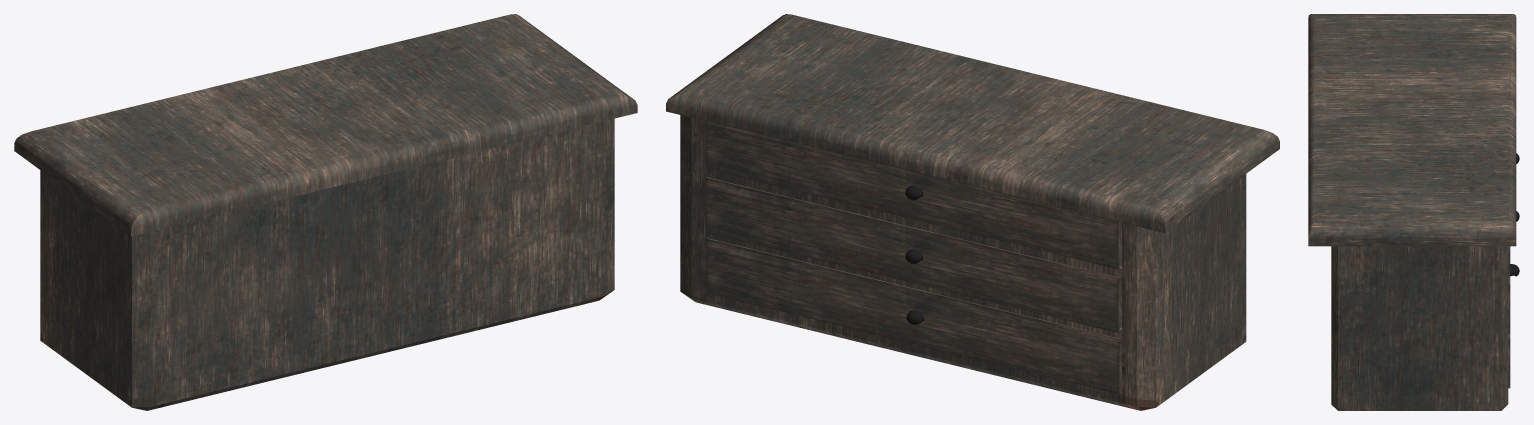
The model's file is Dresser.fbx.
The picture shows the model from 3 angles, left to right: view 1: azimuth 30°, elevation 25°; view 2: azimuth 150°, elevation 25°; view 3: azimuth 270°, elevation 25°; orthographic projection. The views are drawn at different scales.
Parts seen in each view (by area): view 1: polySurface163; view 2: polySurface163, polySurface164, polySurface165, polySurface160; view 3: polySurface163, polySurface165.
Part boxes in pixels (bbox=[...]): polySurface163: bbox=[14, 14, 637, 410]; polySurface163: bbox=[666, 14, 1279, 410]; polySurface164: bbox=[705, 177, 1121, 332]; polySurface165: bbox=[706, 238, 1121, 393]; polySurface160: bbox=[705, 121, 1121, 269]; polySurface163: bbox=[1308, 14, 1516, 410]; polySurface165: bbox=[1508, 264, 1519, 388].
Bounding box in the file's own units: 248 × 100 × 101.
